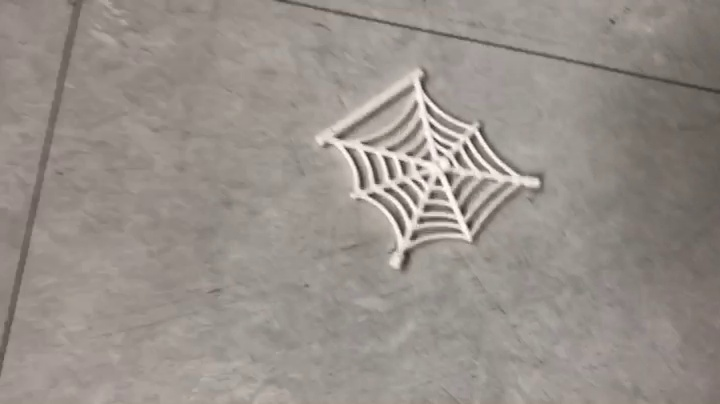web: (314, 62, 547, 272)
